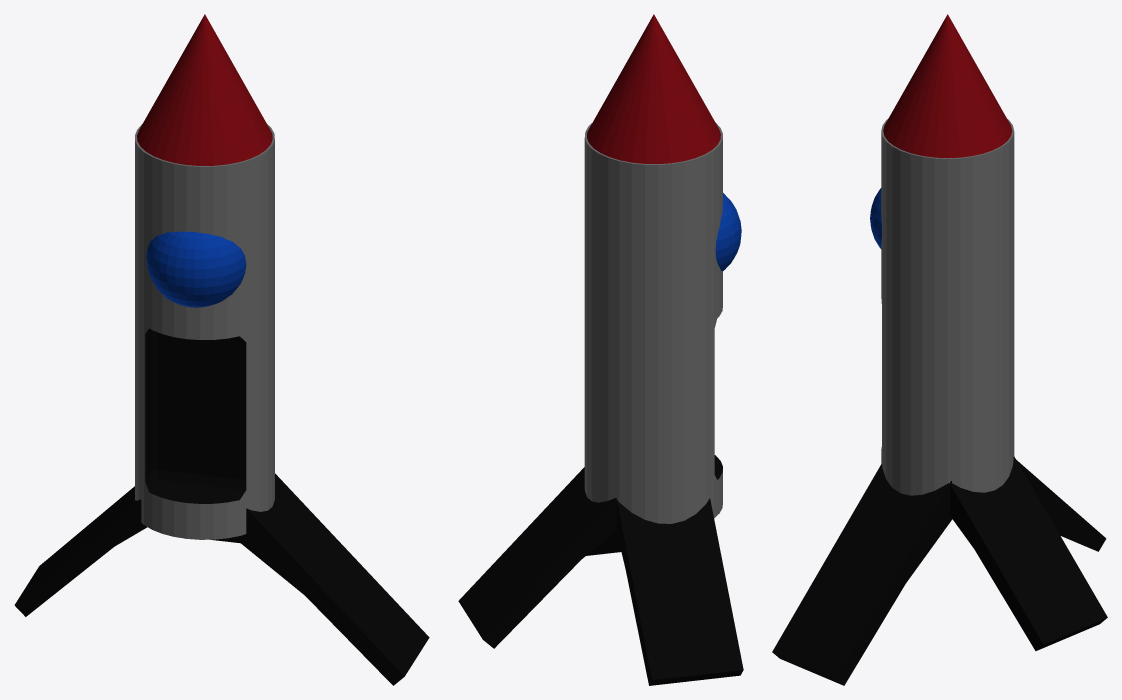
The model's file is rocket.glb.
3 views of the same model, side by side, from view 1: azimuth 30°, elevation 25°; view 2: azimuth 150°, elevation 25°; view 3: azimuth 270°, elevation 25° (orthographic). The views are drawn at different scales.
Visible parts, largest first — view 1: Cylinder; view 2: Cylinder; view 3: Cylinder.
Part boxes in pixels (x1,y1,x2,y2): Cylinder: [14, 14, 429, 685]; Cylinder: [458, 14, 743, 685]; Cylinder: [772, 14, 1107, 685].
Bounding box in the file's own units: 5.05 × 9.93 × 5.05.
